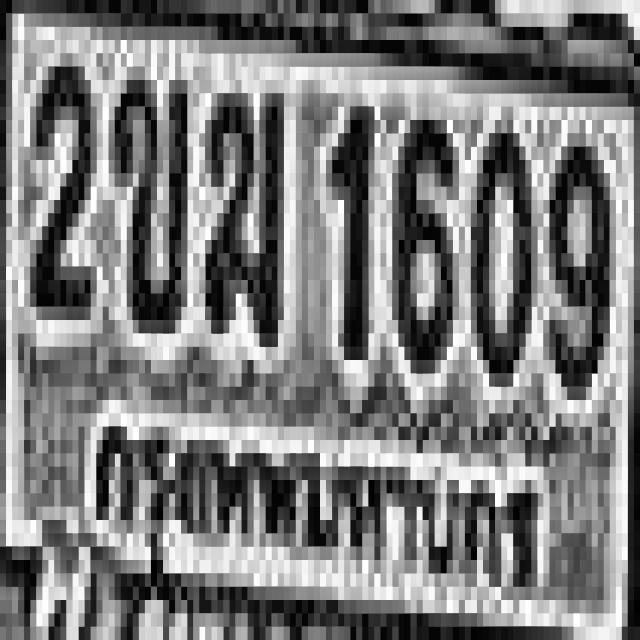license-plate: (2, 8, 633, 635)
